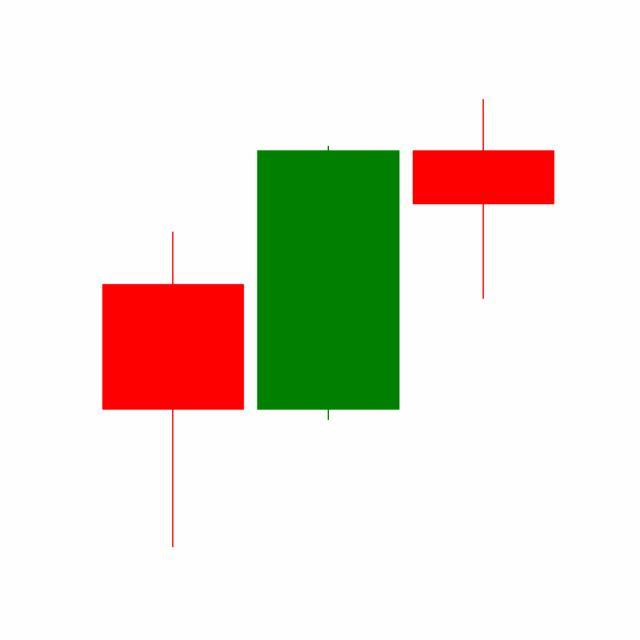Marubozu: (250, 144, 407, 424)
